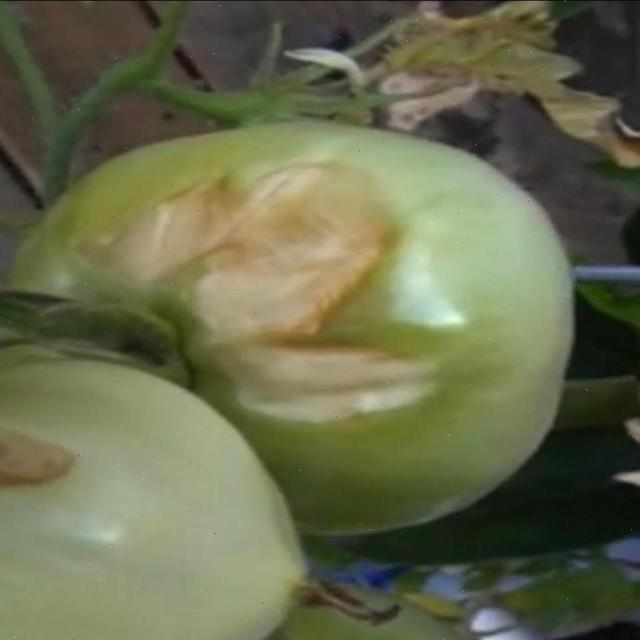Sunscald Fruit: (30, 68, 241, 305)
